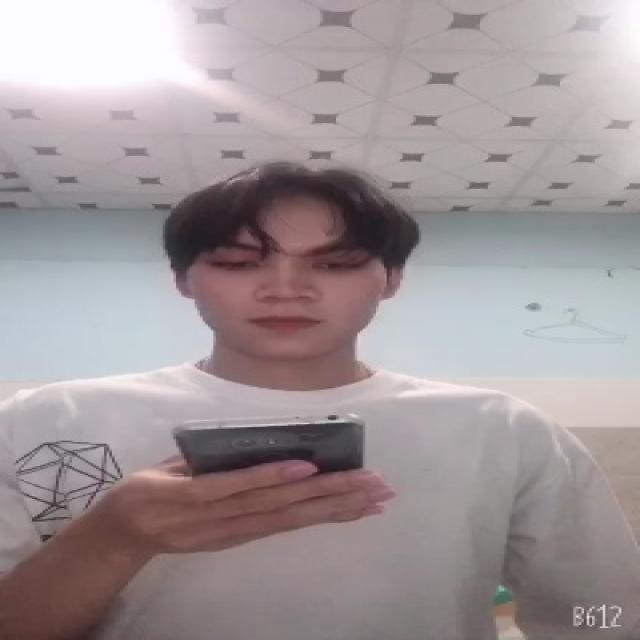Phone: (170, 409, 372, 474)
